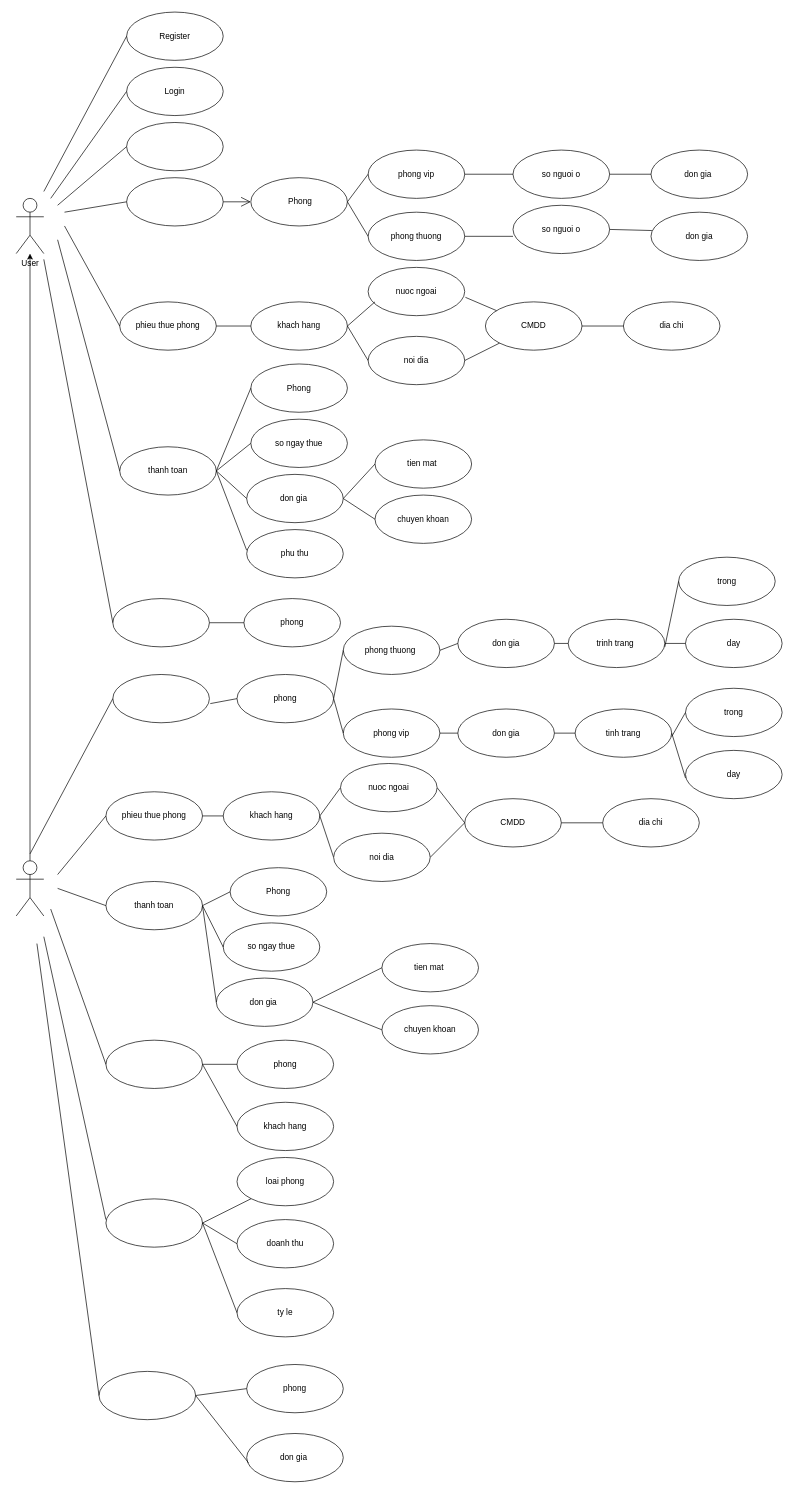
Image size: 794x1494. Some labels were removed from this diagram. Each missing label, with the centre of its shape:
bao cao: [154,1222]
Danh muc thue phong: [174,201]
danh sach phong: [160,698]
employee: [30,888]
Logout: [174,146]
thay doi quy dinh: [147,1395]
tra cuu: [160,622]
tra cuu phong: [154,1063]
